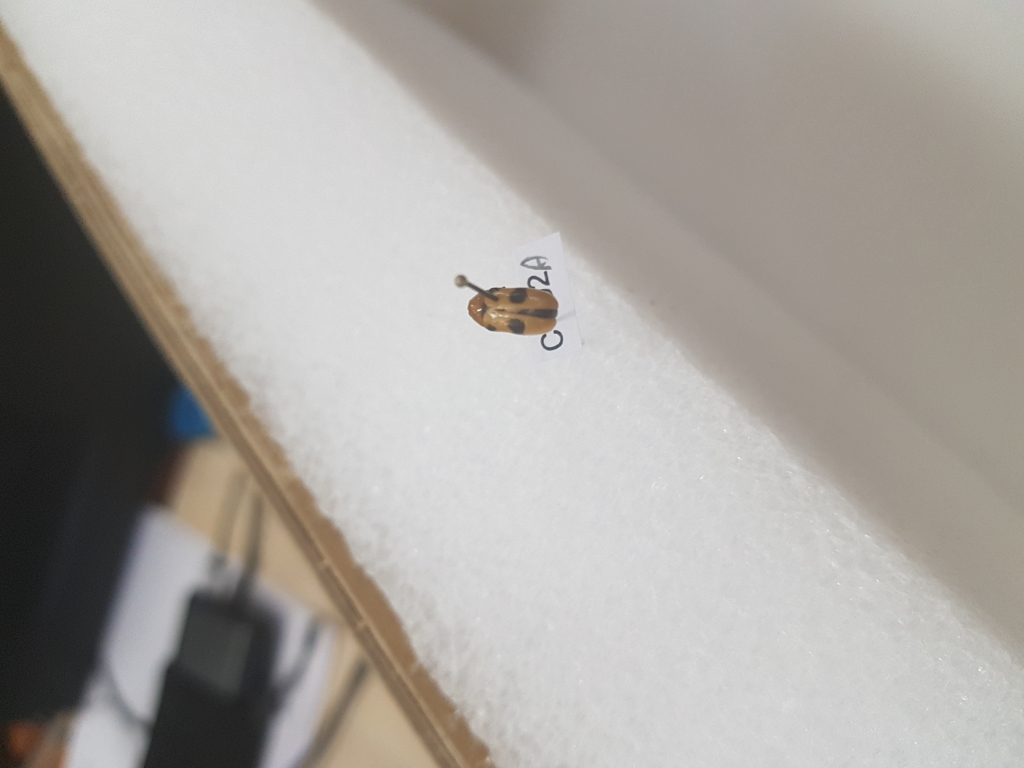Tituboea_macropus: (465, 279, 562, 338)
